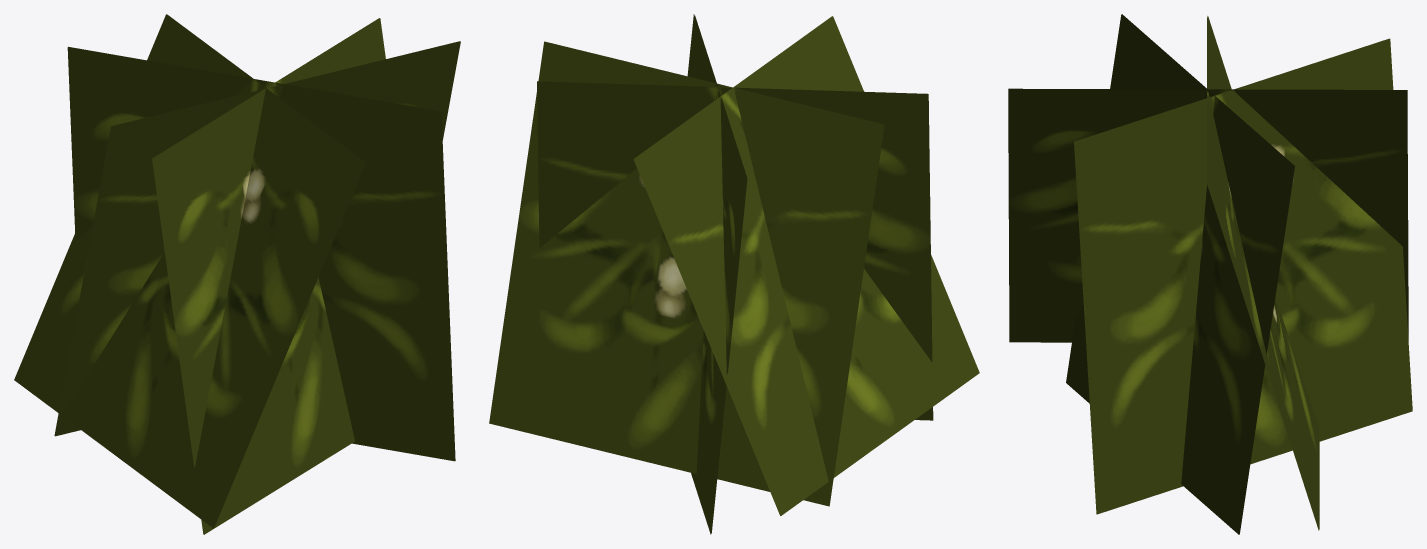
The model's file is Mistletoe_01.fbx.
3 views of the same model, side by side, from view 1: azimuth 30°, elevation 25°; view 2: azimuth 150°, elevation 25°; view 3: azimuth 270°, elevation 25° (orthographic). The views are drawn at different scales.
Visible parts, largest first — view 1: Mistletoe_01; view 2: Mistletoe_01; view 3: Mistletoe_01.
Part boxes in pixels (x1,y1,x2,y2): Mistletoe_01: [14, 14, 460, 534]; Mistletoe_01: [489, 14, 979, 534]; Mistletoe_01: [1008, 14, 1412, 534].
Bounding box in the file's own units: 87.55 × 88.14 × 86.7.
